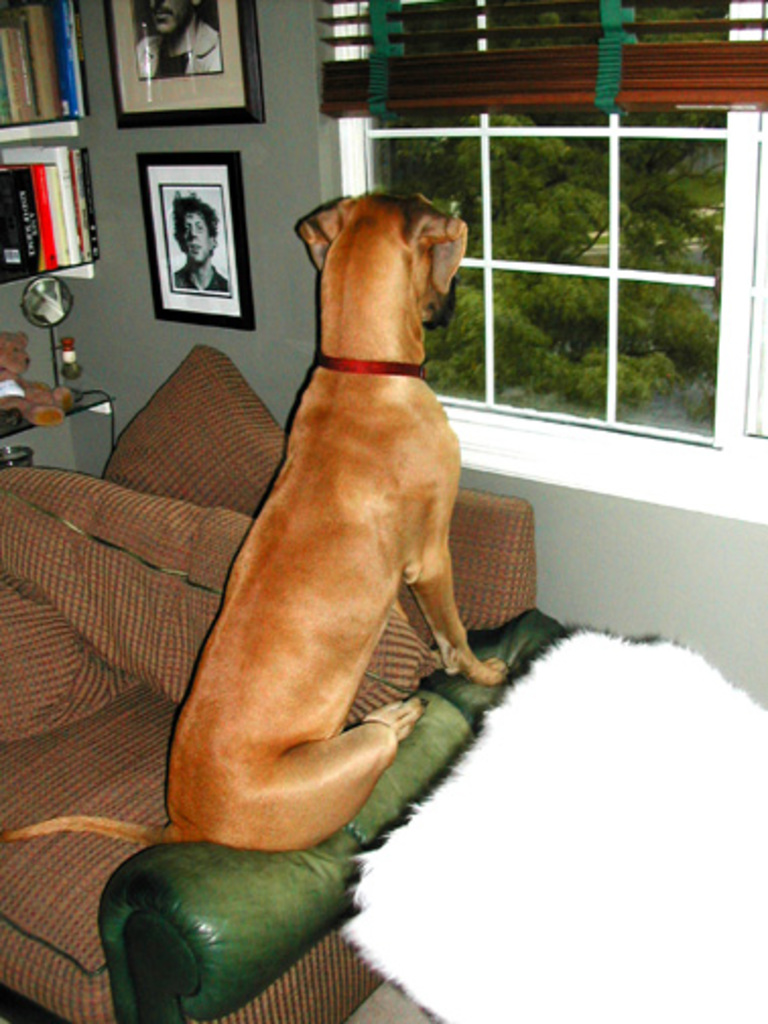Person: (135, 0, 220, 75)
